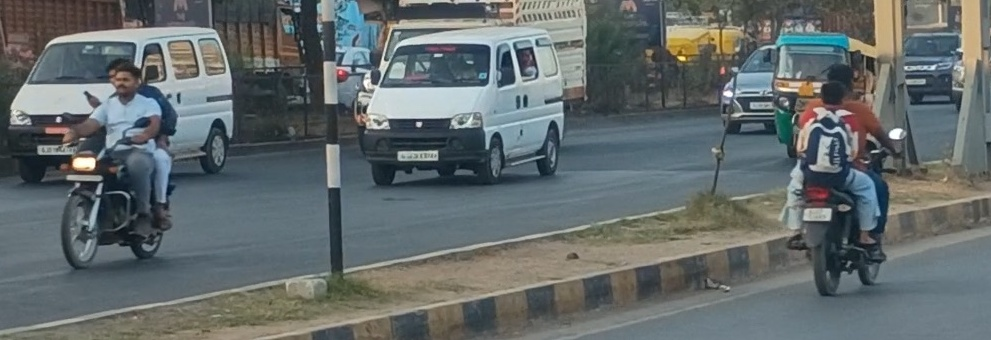BikeWithRider: (777, 63, 913, 296), (49, 56, 174, 269)
NoHelmet: (113, 61, 143, 98), (825, 65, 857, 98), (108, 58, 131, 91), (818, 80, 844, 108)
